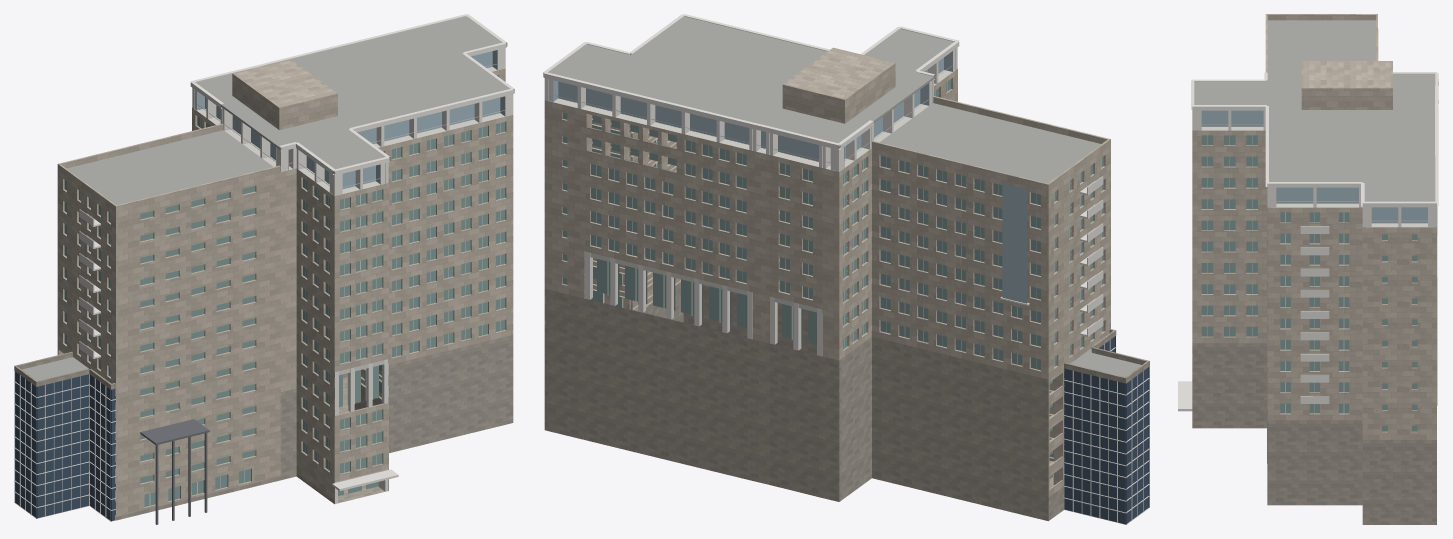
3 renders of one model, left to right at view 1: azimuth 30°, elevation 25°; view 2: azimuth 150°, elevation 25°; view 3: azimuth 270°, elevation 25°, orthographic. The views are drawn at different scales.
Visible parts, largest first — view 1: lawSchool__stone, lawSchool__roof, lawSchool__glass, lawSchool__stoneBase, lawSchool__glassBlue, lawSchool__trim, lawSchool__frame, lawSchool__glassLight, lawSchool__steel, lawSchool__soffit; view 2: lawSchool__stone, lawSchool__stoneBase, lawSchool__roof, lawSchool__glass, lawSchool__trim, lawSchool__glassBlue, lawSchool__glassLight, lawSchool__frame, lawSchool__soffit, lawSchool__rail; view 3: lawSchool__stone, lawSchool__roof, lawSchool__stoneBase, lawSchool__glass, lawSchool__trim, lawSchool__glassLight, lawSchool__soffit, lawSchool__frame, lawSchool__rail.
Part boxes in pixels (<box>): lawSchool__stone: <box>57,59,513,516</box>; lawSchool__roof: <box>22,16,510,380</box>; lawSchool__glass: <box>64,75,505,506</box>; lawSchool__stoneBase: <box>14,271,513,521</box>; lawSchool__glassBlue: <box>14,371,115,521</box>; lawSchool__trim: <box>79,14,514,503</box>; lawSchool__frame: <box>14,67,500,517</box>; lawSchool__glassLight: <box>197,50,505,191</box>; lawSchool__steel: <box>140,419,209,524</box>; lawSchool__soffit: <box>195,67,508,482</box>; lawSchool__stone: <box>544,47,1110,496</box>; lawSchool__stoneBase: <box>544,282,1149,524</box>; lawSchool__roof: <box>548,16,1141,376</box>; lawSchool__glass: <box>562,79,1103,478</box>; lawSchool__trim: <box>543,14,1103,356</box>; lawSchool__glassBlue: <box>1064,336,1149,524</box>; lawSchool__glassLight: <box>553,51,1027,303</box>; lawSchool__frame: <box>563,71,1149,522</box>; lawSchool__soffit: <box>550,70,955,313</box>; lawSchool__rail: <box>554,65,1102,488</box>; lawSchool__stone: <box>1192,14,1437,439</box>; lawSchool__roof: <box>1194,20,1435,201</box>; lawSchool__stoneBase: <box>1192,278,1437,524</box>; lawSchool__glass: <box>1201,135,1417,431</box>; lawSchool__trim: <box>1178,72,1438,411</box>; lawSchool__glassLight: <box>1201,110,1427,223</box>; lawSchool__soffit: <box>1201,127,1433,227</box>; lawSchool__frame: <box>1202,126,1344,413</box>; lawSchool__rail: <box>1202,124,1427,396</box>.
Size of the model in its own units: 85.49 by 58 by 40.01.
11 materials, 2 textured.
